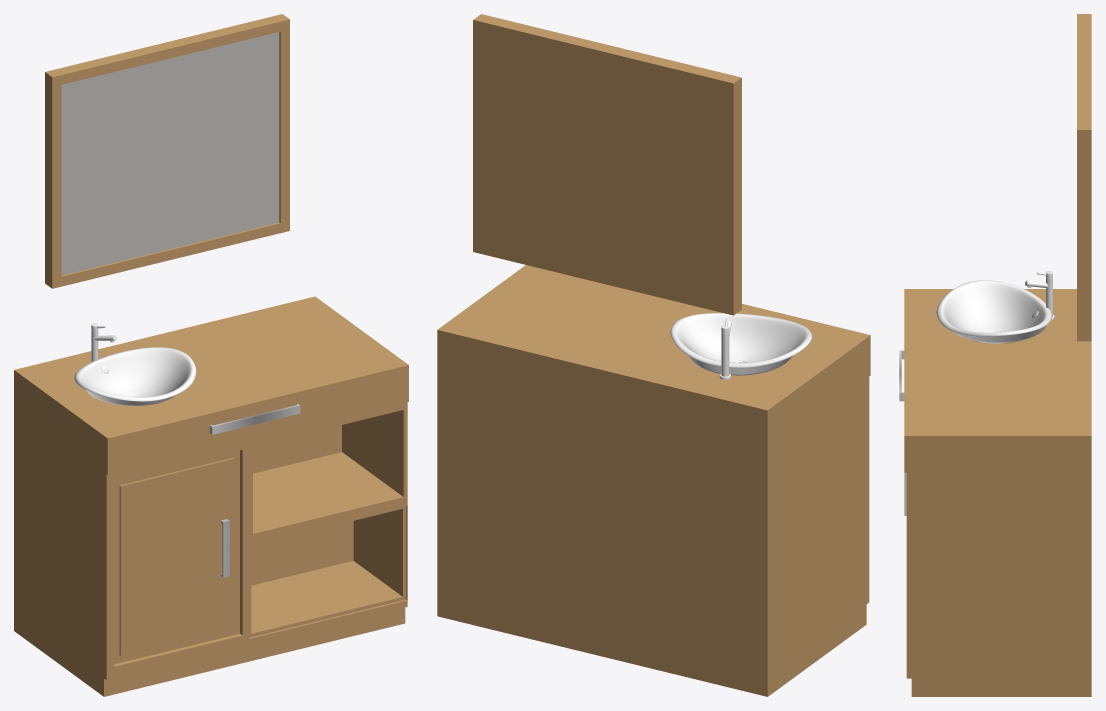
Rendered from bath 1.fbx.
The picture shows the model from 3 angles, left to right: view 1: azimuth 30°, elevation 25°; view 2: azimuth 150°, elevation 25°; view 3: azimuth 270°, elevation 25°; orthographic projection. The views are drawn at different scales.
Visible parts, largest first — view 1: Stand1, Mirror1, G_5403_1; view 2: Stand1, Mirror1, G_5403_1; view 3: Stand1, G_5403_1, Mirror1.
Part boxes in pixels (left/top/right/bottom): Stand1: left=14, top=296, right=408, bottom=696; Mirror1: left=45, top=14, right=289, bottom=288; G_5403_1: left=74, top=347, right=196, bottom=405; Stand1: left=437, top=265, right=870, bottom=696; Mirror1: left=473, top=14, right=741, bottom=315; G_5403_1: left=670, top=313, right=812, bottom=375; Stand1: left=899, top=289, right=1091, bottom=696; G_5403_1: left=936, top=280, right=1052, bottom=343; Mirror1: left=1077, top=14, right=1091, bottom=341.
Bounding box in the file's own units: 1.41 × 2.47 × 0.78.
